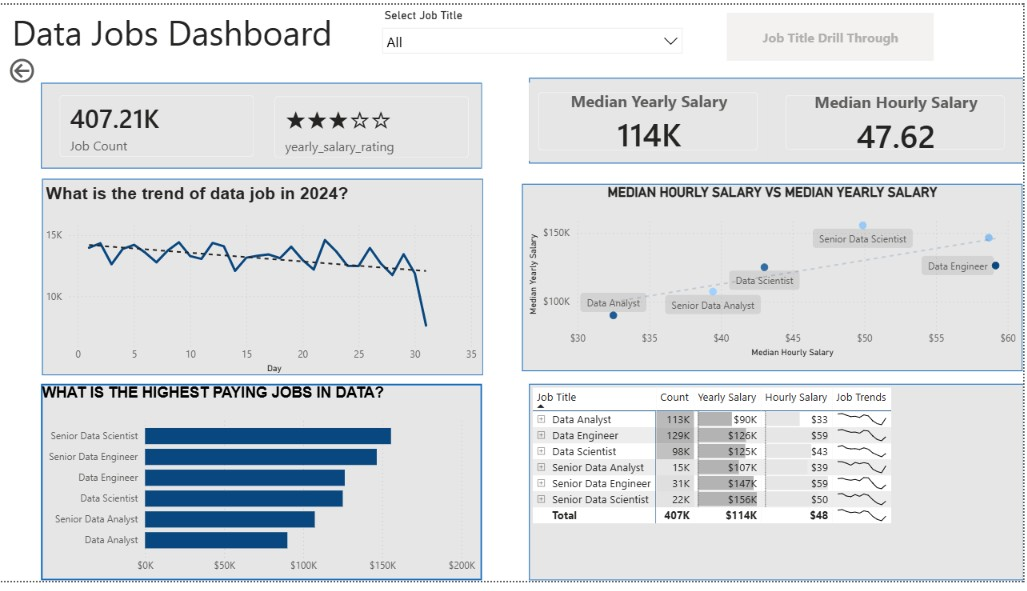

What the dashboard file says about the page in this screenshot:
{"tool":"powerbi","page":{"name":"Data Jobs Dashborad","canvas":[1280,720],"ordinal":0},"visuals":[{"type":"group","id":"g1","title":"Background","box":[51.4,91.4,1228.6,628.6],"z":0},{"type":"shape","box":[51.4,97.1,551.4,107.1],"z":0,"group":"g1"},{"type":"textbox","box":[9.6,0,433.6,79.6],"z":1000},{"type":"shape","box":[661.4,91.4,618.6,107.1],"z":1000,"group":"g1"},{"type":"slicer","title":"SELECT JOB TITLE","fields":{"Values":["job_postings_flat.job_title_short"]},"box":[467.1,0,395.7,82.9],"z":2000},{"type":"shape","box":[52.8,217.1,551.4,245.7],"z":2000,"group":"g1"},{"type":"cardVisual","fields":{"Data":["Median(job_postings_flat.salary_year_avg)"]},"box":[656,92,308.6,107.7],"z":3000},{"type":"shape","box":[652.2,224.5,625.7,234.3],"z":3000,"group":"g1"},{"type":"cardVisual","fields":{"Data":["Median(job_postings_flat.salary_hour_avg)"]},"box":[962,82,308.6,102.6],"z":4000},{"type":"shape","box":[660.8,473.6,618.6,245.7],"z":4000,"group":"g1"},{"type":"cardVisual","fields":{"Data":["CountNonNull(job_postings_flat.job_title_short)"]},"box":[58,96,277.1,111.4],"z":5000},{"type":"shape","box":[51.4,474.3,551.4,245.7],"z":5000,"group":"g1"},{"type":"lineChart","title":"What is the trend of data job in 2024?","fields":{"Category":["job_postings_flat.job_posted_date.Variation.Date Hierarchy.Year","job_postings_flat.job_posted_date.Variation.Date Hierarchy.Quarter","job_postings_flat.job_posted_date.Variation.Date Hierarchy.Month","job_postings_flat.job_posted_date.Variation.Date Hierarchy.Day"],"Y":["CountNonNull(job_postings_flat.job_title_short)"]},"box":[52,224,551.4,241.4],"z":6000},{"type":"clusteredBarChart","title":"WHAT IS THE HIGHEST PAYING JOBS IN DATA?","fields":{"Category":["job_postings_flat.job_title_short"],"Y":["Median(job_postings_flat.salary_year_avg)"]},"box":[48,474,551.4,245.7],"z":7000},{"type":"scatterChart","title":"MEDIAN HOURLY SALARY VS MEDIAN YEARLY SALARY","fields":{"X":["Median(job_postings_flat.salary_hour_avg)"],"Category":["job_postings_flat.job_title_short"],"Y":["Median(job_postings_flat.salary_year_avg)"]},"box":[656,224,618.6,221.4],"z":8000},{"type":"cardVisual","fields":{"Data":["job_postings_flat.yearly_salary_rating"]},"box":[326,98,277.1,111.4],"z":9000},{"type":"pivotTable","fields":{"Rows":["job_postings_flat.job_title_short","job_postings_flat.job_posted_date.Variation.Date Hierarchy.Year","job_postings_flat.job_posted_date.Variation.Date Hierarchy.Quarter","job_postings_flat.job_posted_date.Variation.Date Hierarchy.Month","job_postings_flat.job_posted_date.Variation.Date Hierarchy.Day"],"Values":["CountNonNull(job_postings_flat.job_title_short)","Median(job_postings_flat.salary_year_avg)","Median(job_postings_flat.salary_hour_avg)","SparklineData(CountNonNull(job_postings_flat.job_title_short)_[job_postings_flat.job_posted_date.Variation.Date Hierarch"]},"box":[652,474,618.6,245.7],"z":10000},{"type":"actionButton","box":[7.1,62.9,100,40],"z":11000},{"type":"actionButton","box":[908.8,10,258.8,60],"z":12000}]}

Visuals, with their boxes in screenshot pixels (x1, y1, x2, y2), scaled from the page's 1280x720 canvas onto the 1027x591 screenshot:
"Background" group: box=[41, 75, 1026, 590]
shape: box=[41, 80, 484, 168]
textbox: box=[8, 0, 356, 65]
shape: box=[531, 75, 1026, 163]
"SELECT JOB TITLE" slicer: box=[375, 0, 692, 68]
shape: box=[42, 178, 485, 380]
cardVisual - Median(job_postings_flat.salary_year_avg): box=[526, 76, 774, 164]
shape: box=[523, 184, 1025, 377]
cardVisual - Median(job_postings_flat.salary_hour_avg): box=[772, 67, 1019, 152]
shape: box=[530, 389, 1026, 590]
cardVisual - CountNonNull(job_postings_flat.job_title_short): box=[47, 79, 269, 170]
shape: box=[41, 389, 484, 590]
"What is the trend of data job in 2024?" lineChart: box=[42, 184, 484, 382]
"WHAT IS THE HIGHEST PAYING JOBS IN DATA?" clusteredBarChart: box=[39, 389, 481, 590]
"MEDIAN HOURLY SALARY VS MEDIAN YEARLY SALARY" scatterChart: box=[526, 184, 1023, 366]
cardVisual - job_postings_flat.yearly_salary_rating: box=[262, 80, 484, 172]
pivotTable - job_postings_flat.job_title_short x job_postings_flat.job_posted_date.Variation.Date Hierarchy.Year: box=[523, 389, 1019, 590]
actionButton: box=[6, 52, 86, 84]
actionButton: box=[729, 8, 937, 57]
